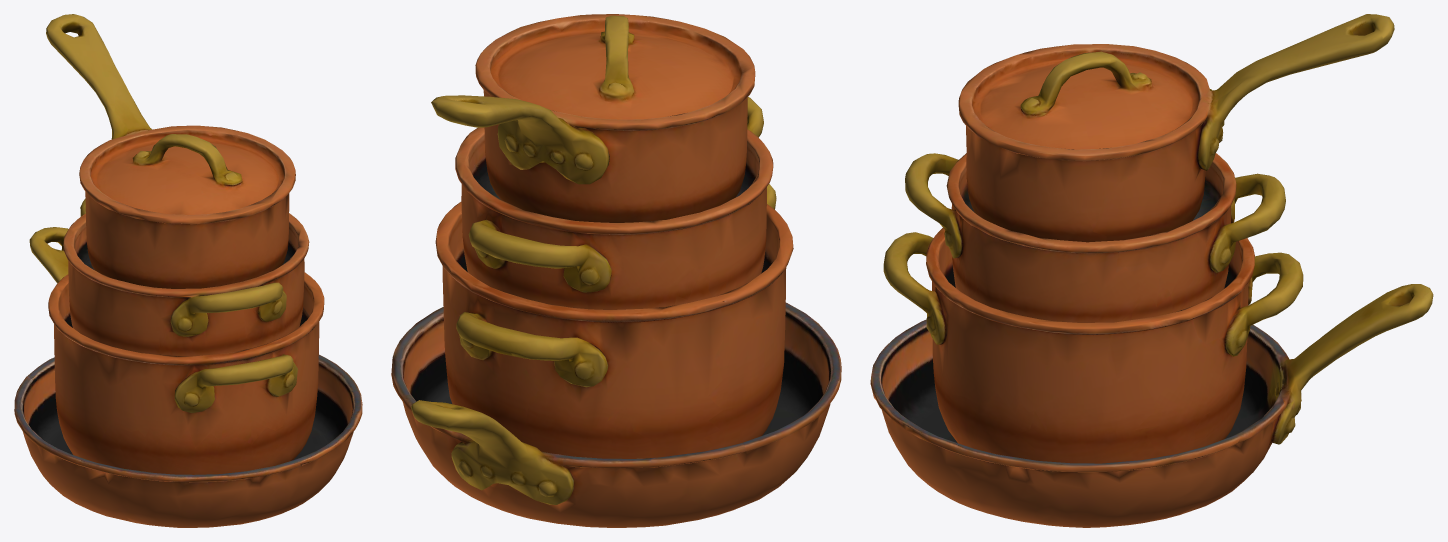
File: SM_Kitchen_CopperPots.glb
The picture shows the model from 3 angles, left to right: view 1: azimuth 30°, elevation 25°; view 2: azimuth 150°, elevation 25°; view 3: azimuth 270°, elevation 25°; orthographic projection. The views are drawn at different scales.
Visible parts, largest first — view 1: tripo_node_60992149-b87e-4953-bc21-e4c08ed269f9; view 2: tripo_node_60992149-b87e-4953-bc21-e4c08ed269f9; view 3: tripo_node_60992149-b87e-4953-bc21-e4c08ed269f9.
Part boxes in pixels (x1,y1,x2,y2): tripo_node_60992149-b87e-4953-bc21-e4c08ed269f9: (14,14,362,527); tripo_node_60992149-b87e-4953-bc21-e4c08ed269f9: (391,14,841,527); tripo_node_60992149-b87e-4953-bc21-e4c08ed269f9: (870,14,1433,527).
Size of the model in its own units: 0.7511 by 0.8597 by 1.
Materials: 1 (1 with a texture image).
